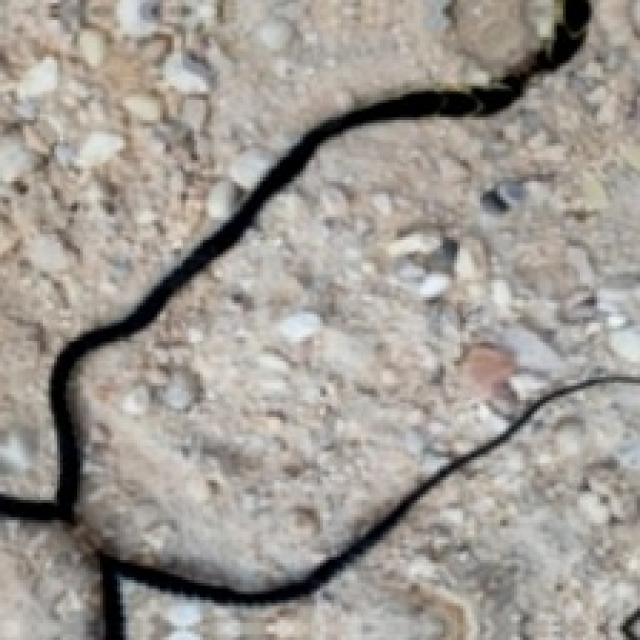king cobra: (77, 0, 637, 583), (0, 0, 534, 494), (123, 386, 637, 637), (0, 517, 100, 637)
